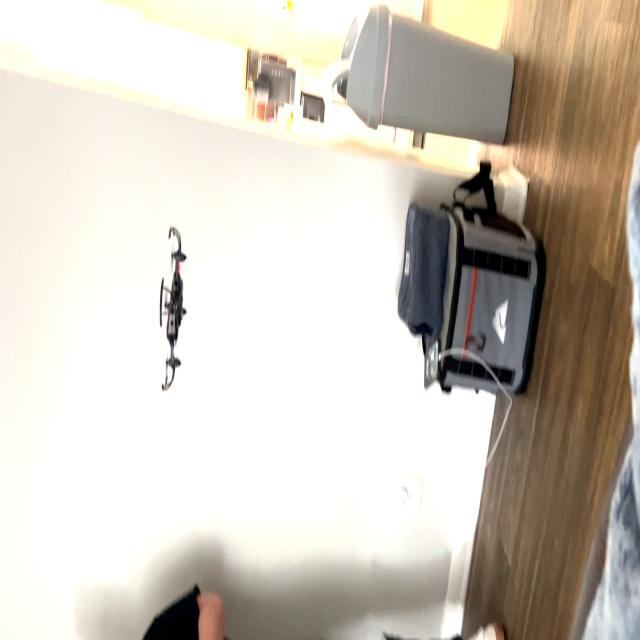drone: (152, 197, 198, 402)
